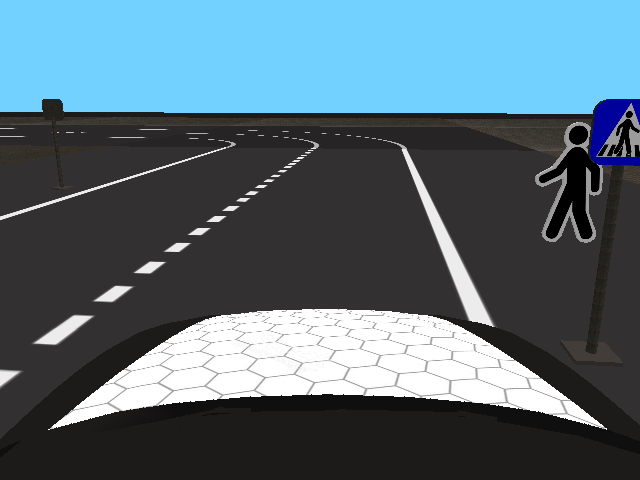pedestrian: (536, 121, 603, 245)
